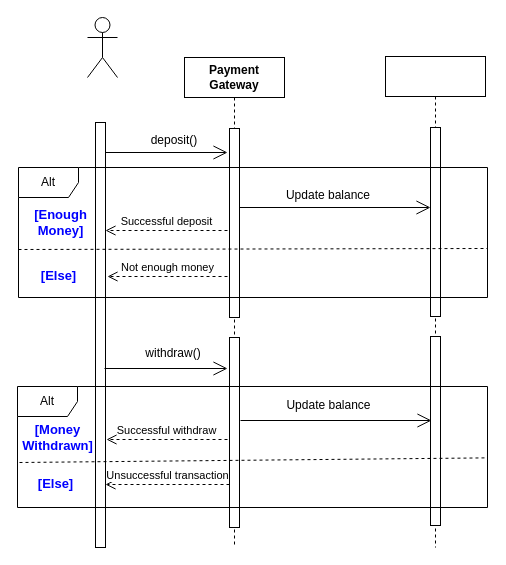
This 506x565 diagram has some shape labels left out. Here are the shapes that lost their labels. From the top down, the box of each, then its label:
(86, 16, 118, 78): Tenant/ Landlord
(384, 56, 486, 548): DataBase
